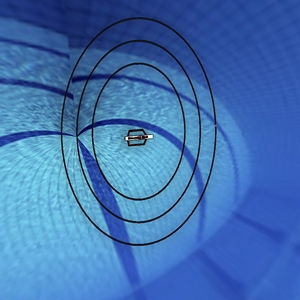circle: (51, 6, 228, 269)
submarine: (114, 118, 160, 154)
